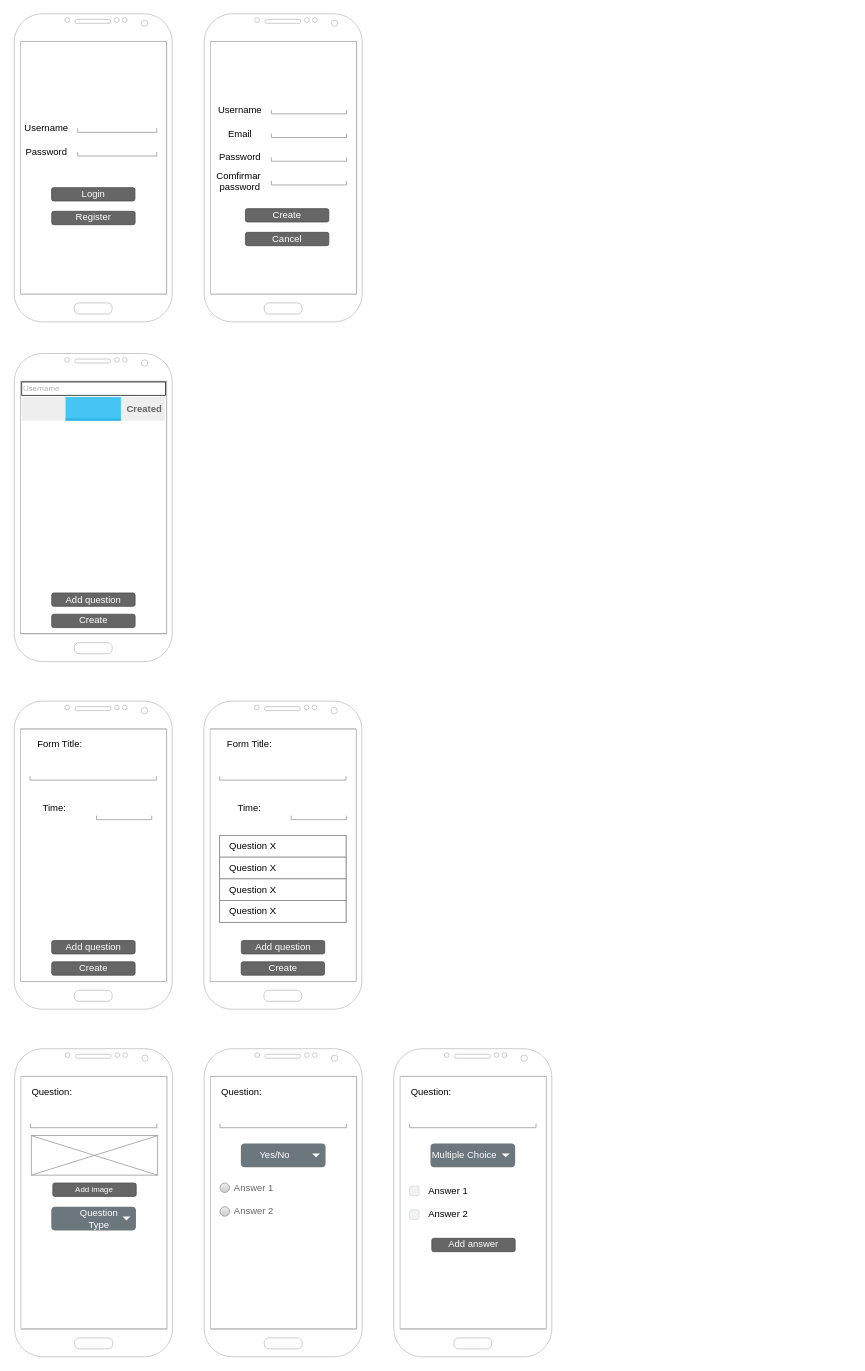
Image size: 865x1371. Some labels were removed from this diagram. Here are the shapes that lost their labels. From the top down, the centre of each, then its label:
point (41, 408): Active
point (92, 408): History
